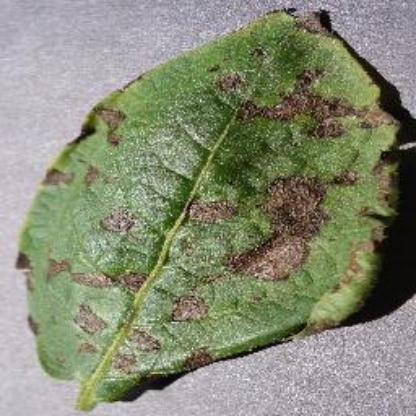Early-Blight: (14, 7, 410, 409)
